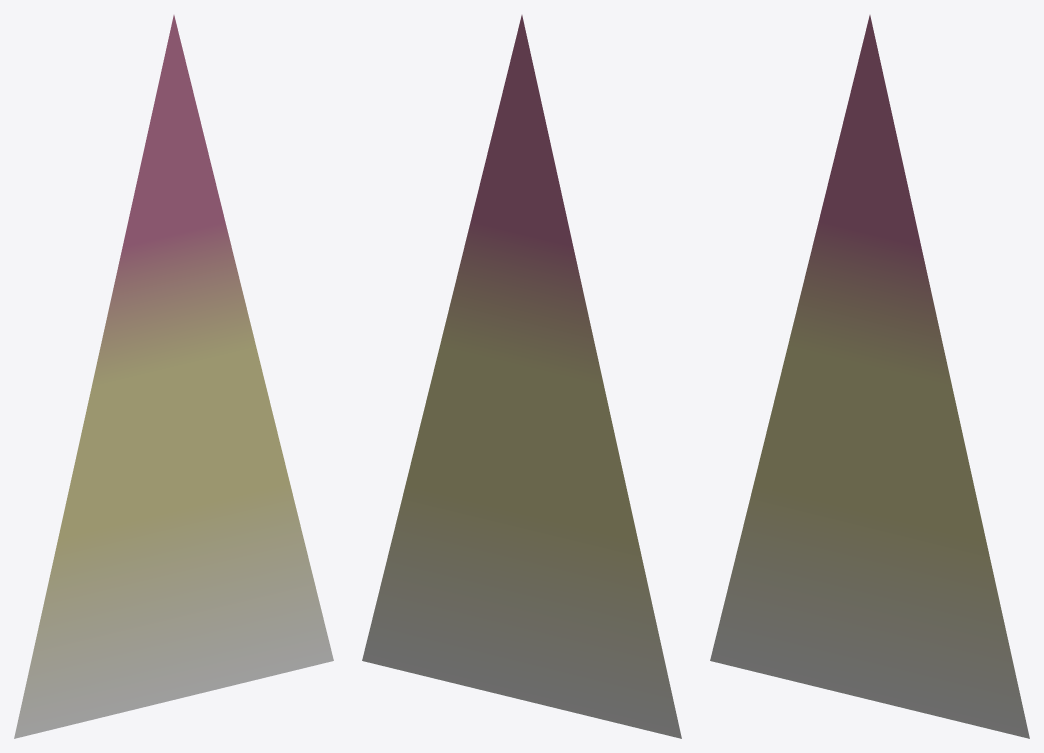
The model's file is spotlightBlur1.glb.
The picture shows the model from 3 angles, left to right: view 1: azimuth 30°, elevation 25°; view 2: azimuth 150°, elevation 25°; view 3: azimuth 330°, elevation 25°; orthographic projection.
Parts seen in each view (by area): view 1: spotlightBlur1; view 2: spotlightBlur1; view 3: spotlightBlur1.
Boxes of the visible parts, left/top/right/bottom form: spotlightBlur1: left=14, top=15, right=333, bottom=738; spotlightBlur1: left=362, top=15, right=681, bottom=738; spotlightBlur1: left=710, top=15, right=1029, bottom=738.
Bounding box in the file's own units: 1.14 × 2.34 × 4.36e-09.
